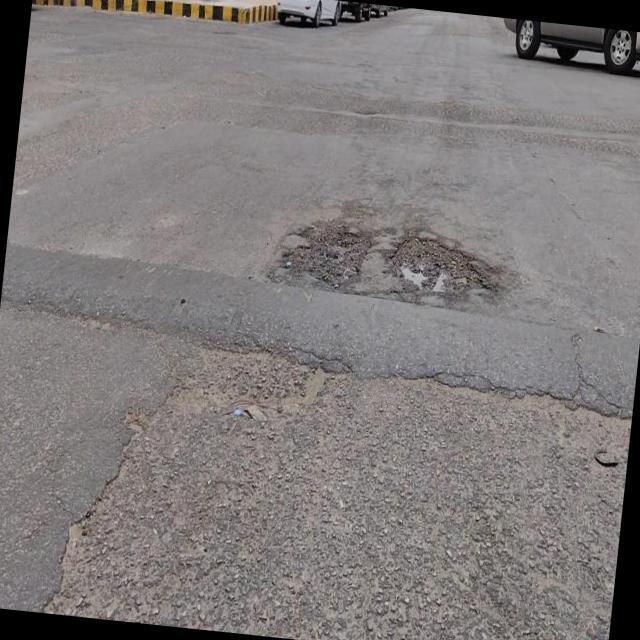Pothole: (277, 216, 369, 289), (389, 234, 494, 295)
